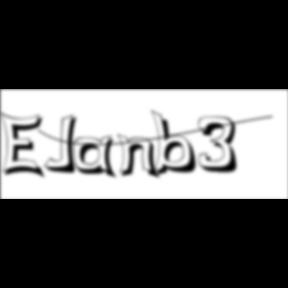3: (199, 116, 245, 176)
E: (0, 110, 50, 182)
J: (44, 114, 83, 176)
a: (73, 135, 121, 182)
b: (150, 109, 204, 179)
n: (118, 132, 164, 181)
